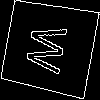W: (24, 22, 77, 77)
